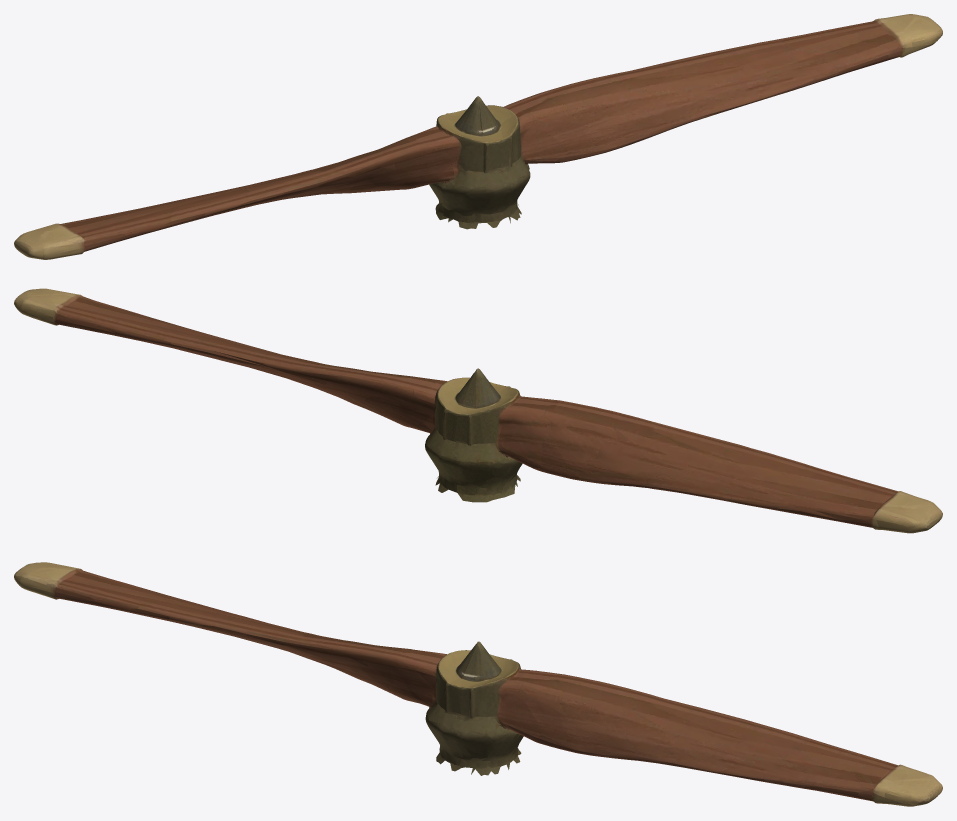
The model's file is dragonfly_prop.glb.
3 views of the same model, one above another, from view 1: azimuth 30°, elevation 25°; view 2: azimuth 150°, elevation 25°; view 3: azimuth 330°, elevation 25° (orthographic).
Visible parts, largest first — view 1: mesh_node; view 2: mesh_node; view 3: mesh_node.
Boxes of the visible parts, x1,y1,x2,y2 form: mesh_node: (14, 14, 942, 259); mesh_node: (14, 288, 942, 533); mesh_node: (14, 562, 942, 806).
Bounding box in the file's own units: 1.9 × 0.2303 × 0.196.
Materials: 1 (1 with a texture image).
